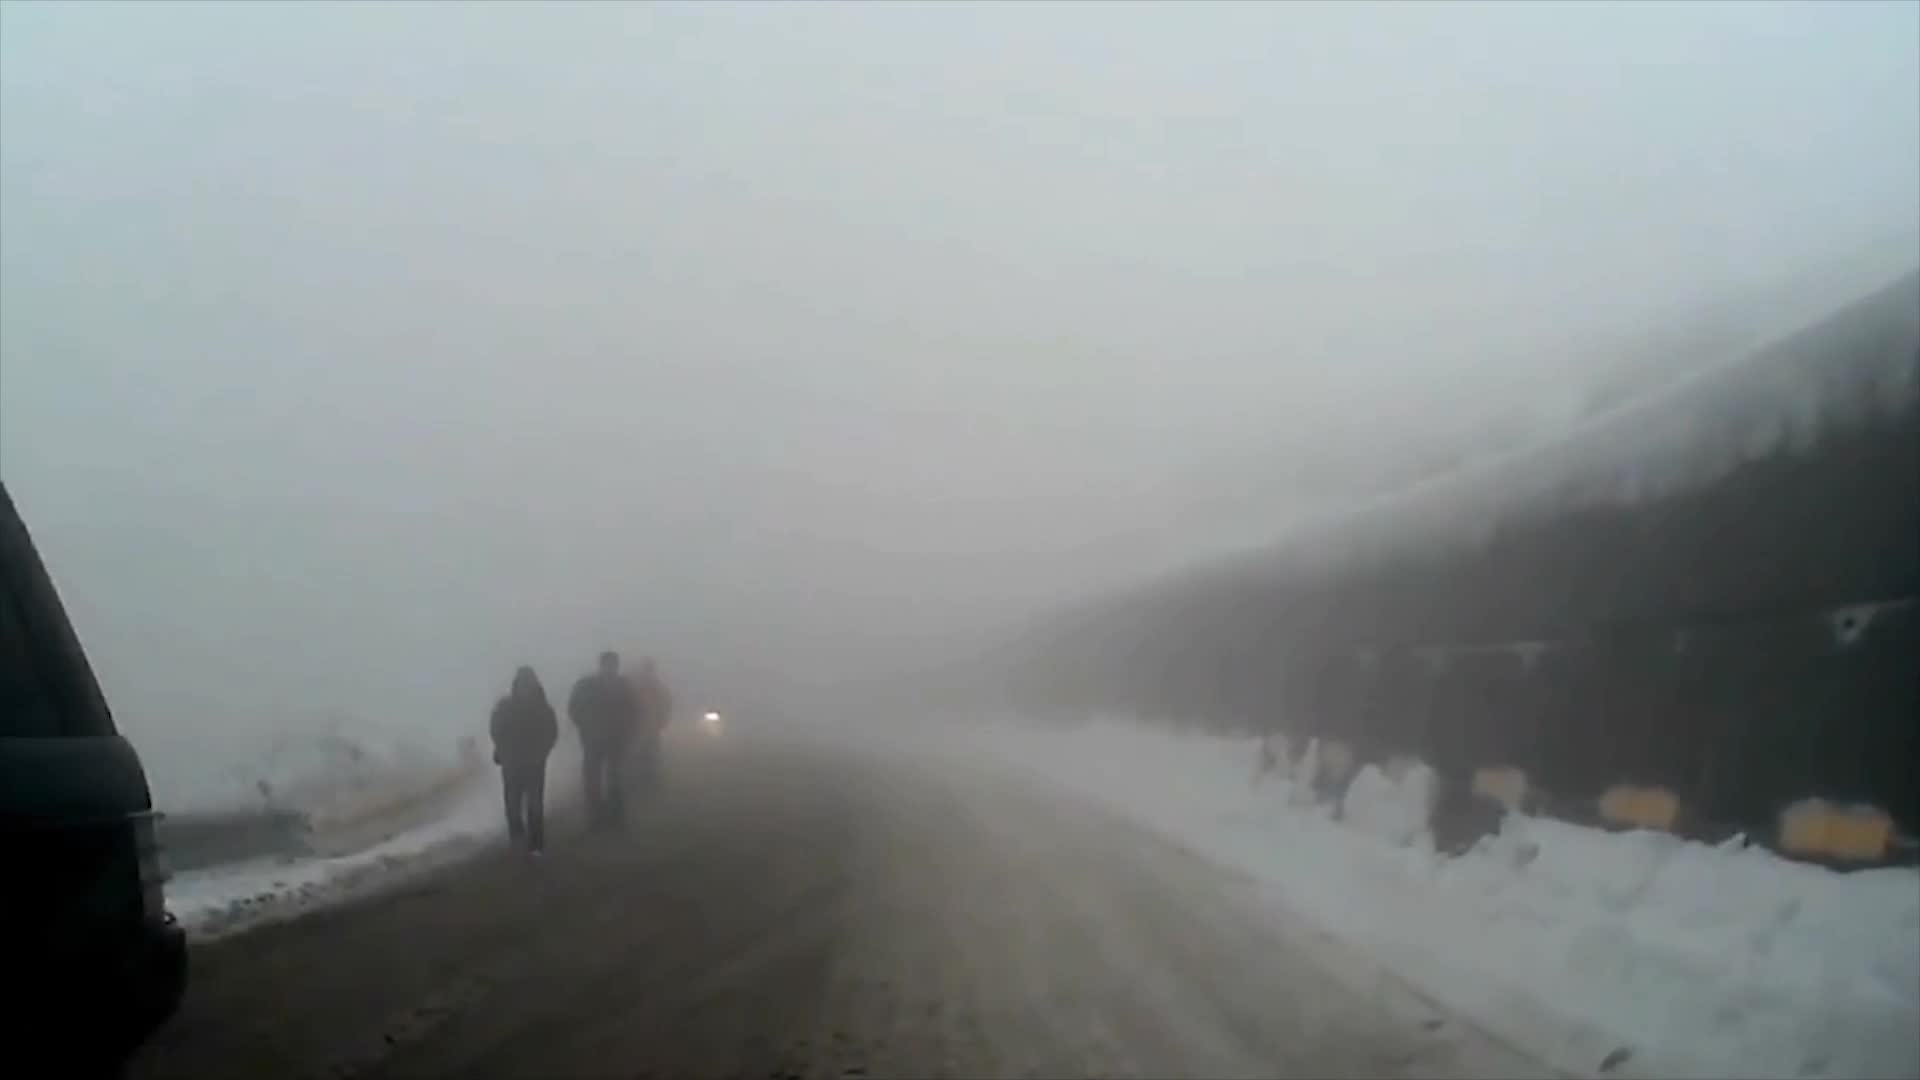pedestrian: (486, 667, 564, 860), (568, 650, 642, 833), (621, 655, 675, 820)
vehicle: (0, 484, 186, 1079)
